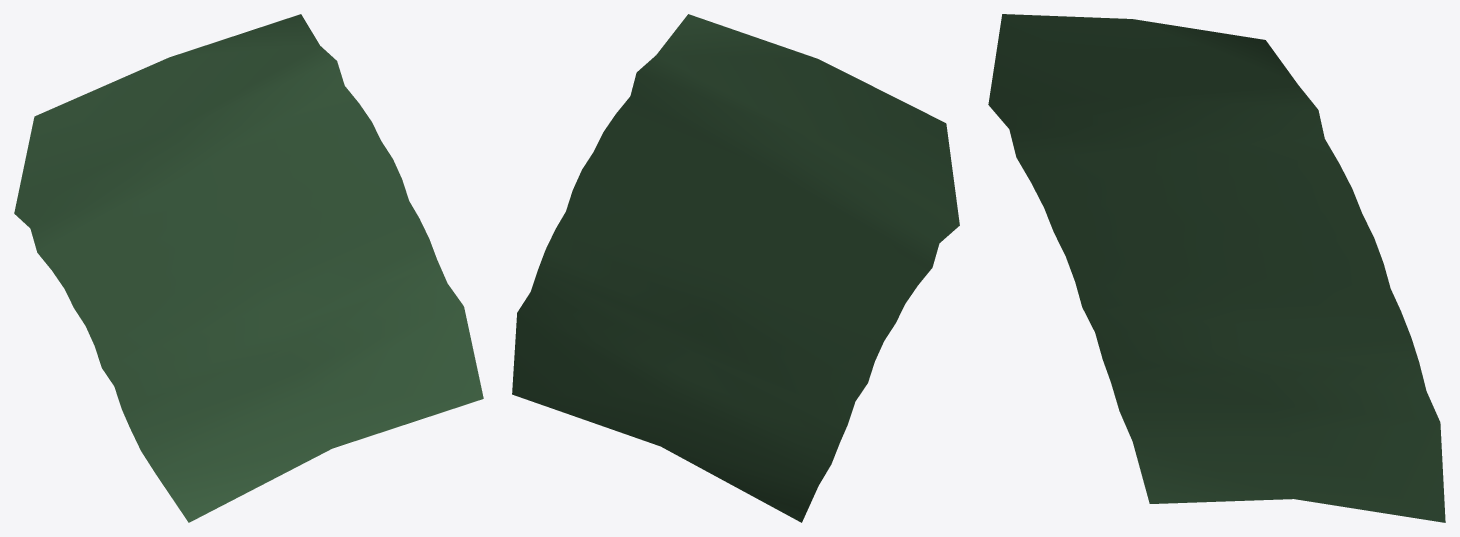
Rendered from BridgeInvisiblePlane.glb.
3 renders of one model, left to right at view 1: azimuth 30°, elevation 25°; view 2: azimuth 150°, elevation 25°; view 3: azimuth 330°, elevation 25°, orthographic. The views are drawn at different scales.
Visible parts, largest first — view 1: fence_chain.png__; view 2: fence_chain.png__; view 3: fence_chain.png__.
Boxes of the visible parts, <box> form: fence_chain.png__: <box>14,14,483,522</box>; fence_chain.png__: <box>512,14,959,522</box>; fence_chain.png__: <box>988,14,1445,522</box>.
Bounding box in the file's own units: 20.13 × 20.19 × 1.02.
1 material, 1 textured.
